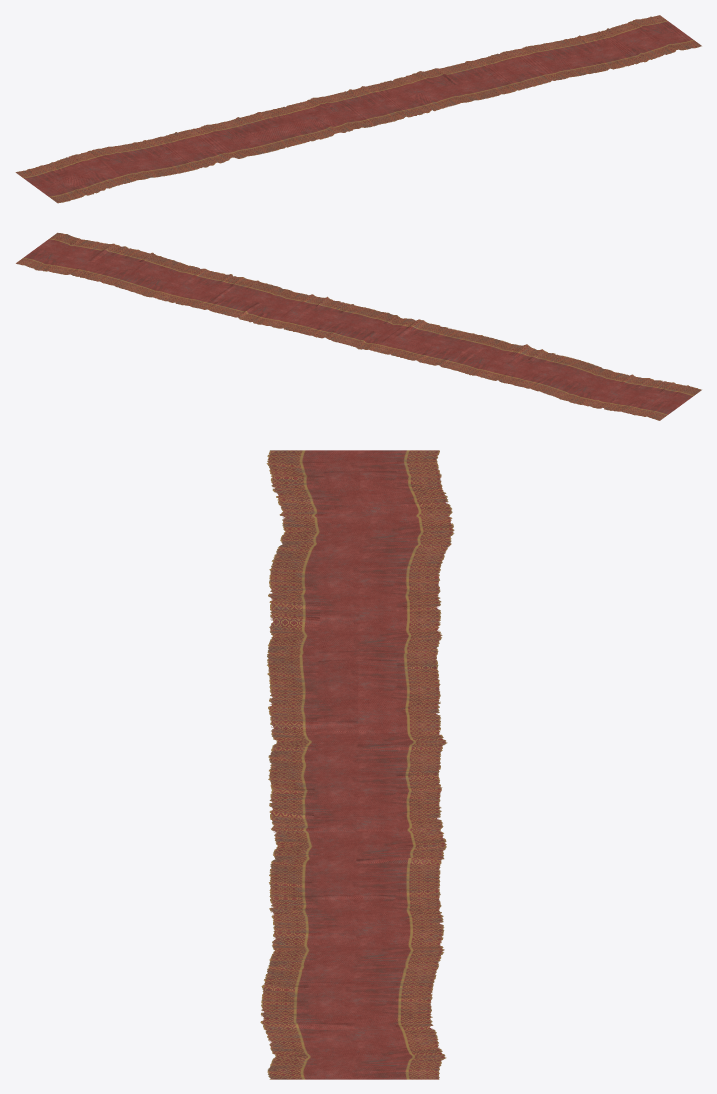
The model's file is SM_carpet.fbx.
3 views of the same model, one above another, from view 1: azimuth 30°, elevation 25°; view 2: azimuth 150°, elevation 25°; view 3: azimuth 270°, elevation 25° (orthographic). The views are drawn at different scales.
Visible parts, largest first — view 1: SM_carpet_LOD0; view 2: SM_carpet_LOD0; view 3: SM_carpet_LOD0.
Part boxes in pixels (x1,y1,x2,y2): SM_carpet_LOD0: [15, 15, 701, 203]; SM_carpet_LOD0: [16, 232, 701, 420]; SM_carpet_LOD0: [260, 450, 454, 1079].
Size of the model in its own units: 2609 by 351 by 13.03.
